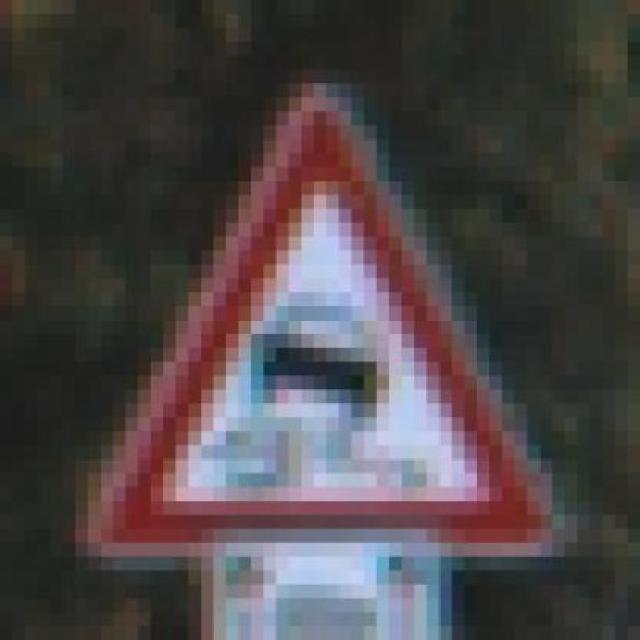Slippery Road Ahead: (88, 83, 564, 585)
